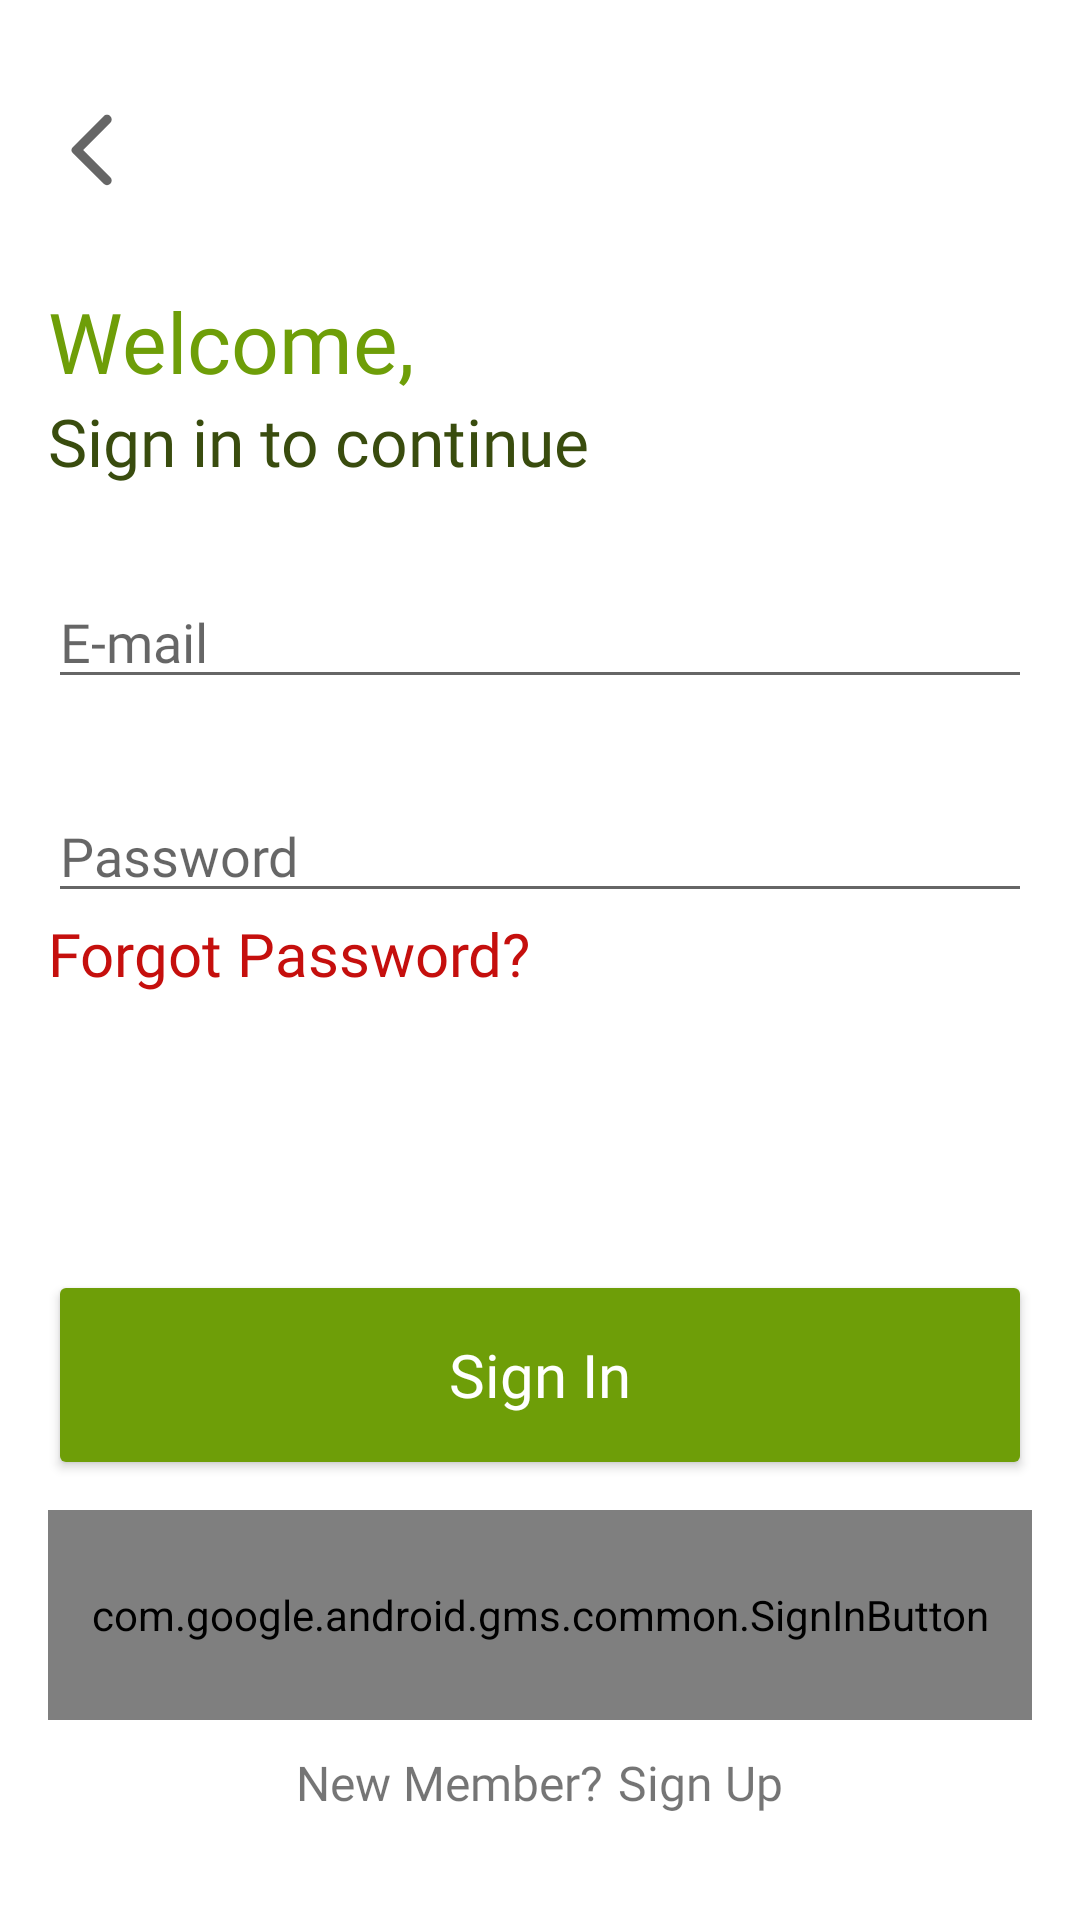

Point at icon controls on the screen. Image size 1080px x 1920px, points as (x=x, y=y).
arrow back: (x=91, y=149)
